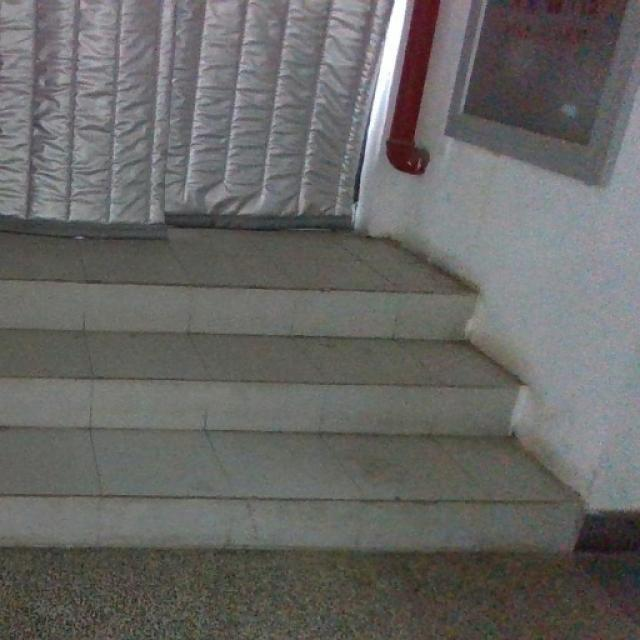Stairs: (0, 224, 586, 554)
